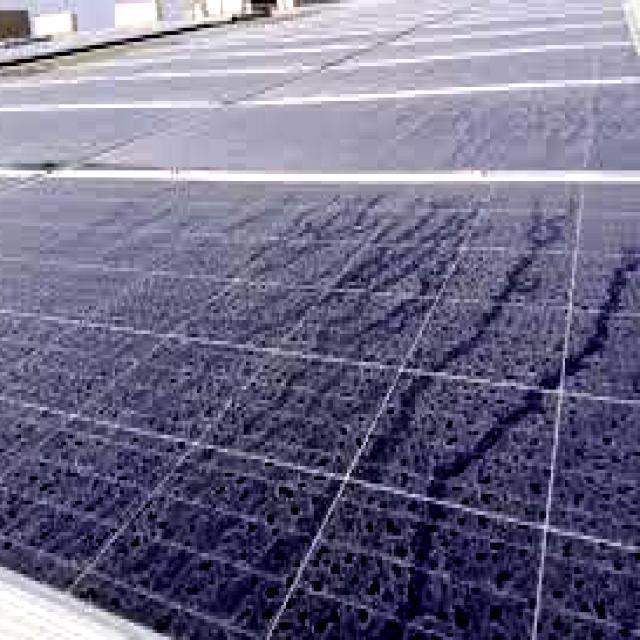soiled: (0, 174, 637, 640)
